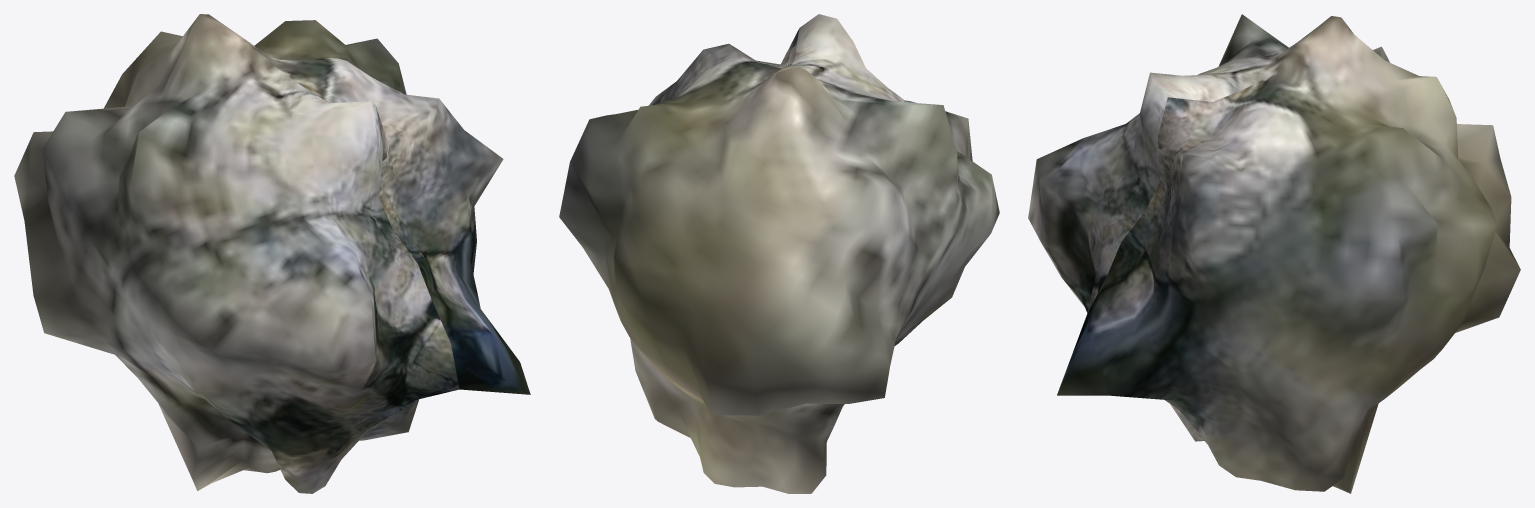
3 views of the same model, side by side, from view 1: azimuth 30°, elevation 25°; view 2: azimuth 150°, elevation 25°; view 3: azimuth 270°, elevation 25° (orthographic). The views are drawn at different scales.
Parts seen in each view (by area): view 1: Сфера; view 2: Сфера; view 3: Сфера.
Part boxes in pixels (left/top/right/bottom): Сфера: left=14, top=14, right=530, bottom=493; Сфера: left=559, top=14, right=999, bottom=493; Сфера: left=1028, top=14, right=1520, bottom=493.
Bounding box in the file's own units: 213 × 258 × 262.
